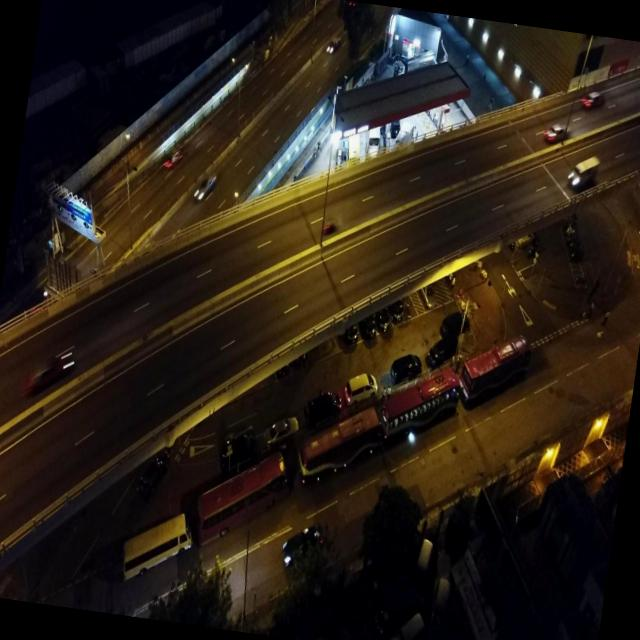bus: (188, 442, 296, 560), (286, 393, 386, 502), (375, 362, 464, 461), (456, 324, 536, 420), (113, 506, 196, 590)
car: (134, 445, 172, 507), (214, 421, 259, 464), (300, 388, 344, 426), (565, 152, 603, 195), (344, 368, 381, 408), (425, 332, 460, 371), (264, 412, 299, 450), (438, 306, 473, 341), (388, 351, 422, 387), (356, 304, 380, 344), (190, 168, 218, 202), (372, 299, 396, 336), (542, 120, 572, 148), (383, 291, 407, 325), (580, 90, 606, 114), (341, 317, 360, 347), (325, 34, 342, 56)
